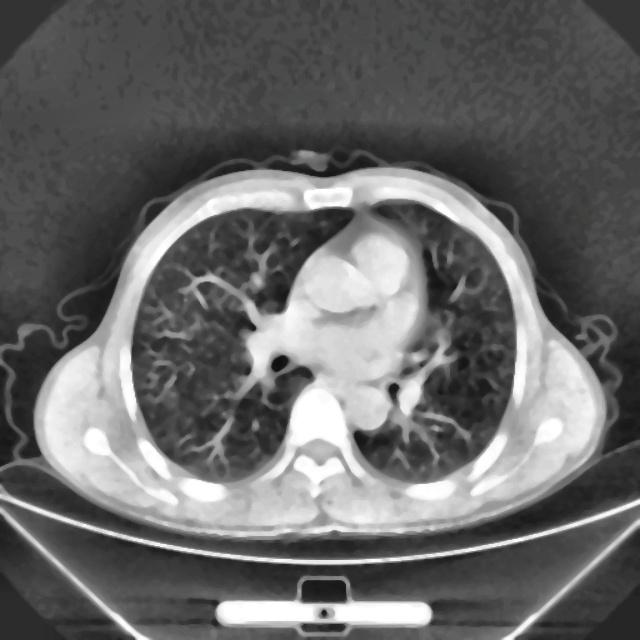covid: (31, 152, 610, 542)
